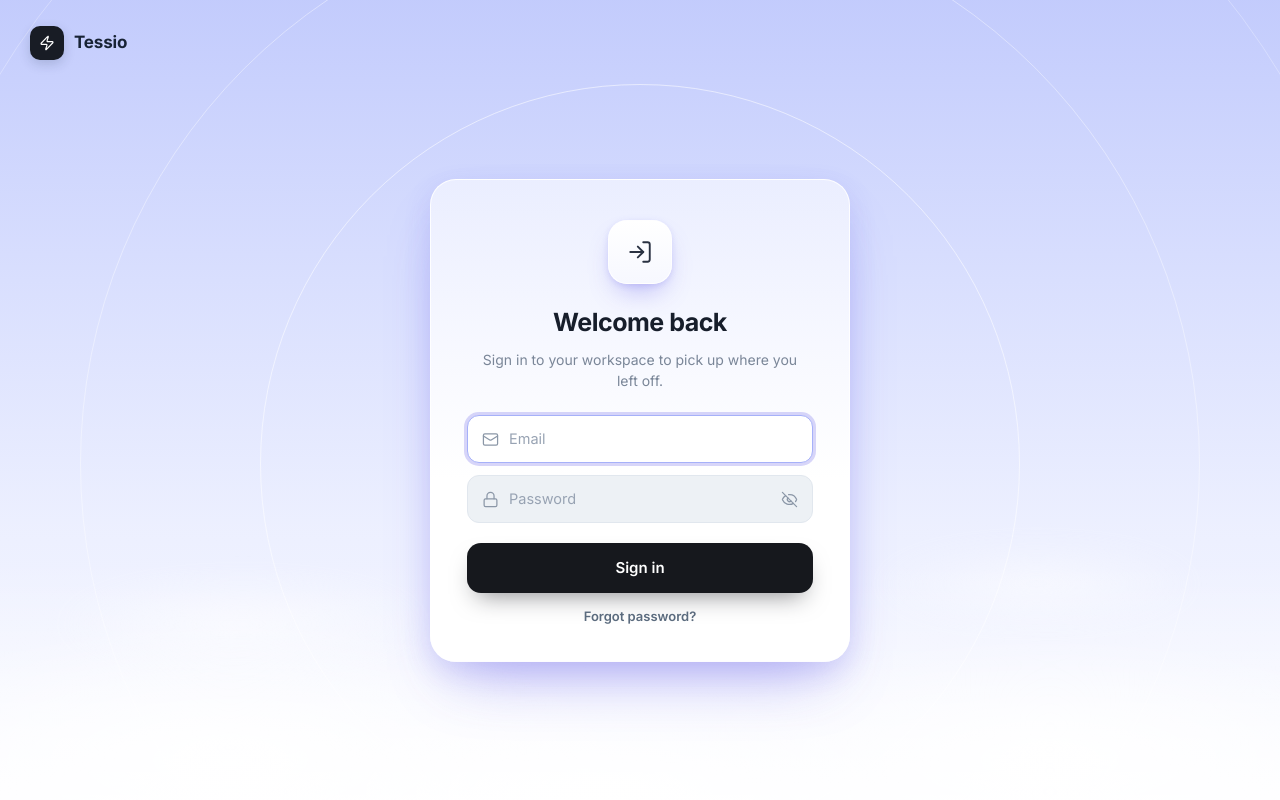
it: LoginPage › shows an error when login fails
Type "a@b.io" into the field labelled "Email".
click(654, 439); type("a@b.io")  # box [509,428,798,450]
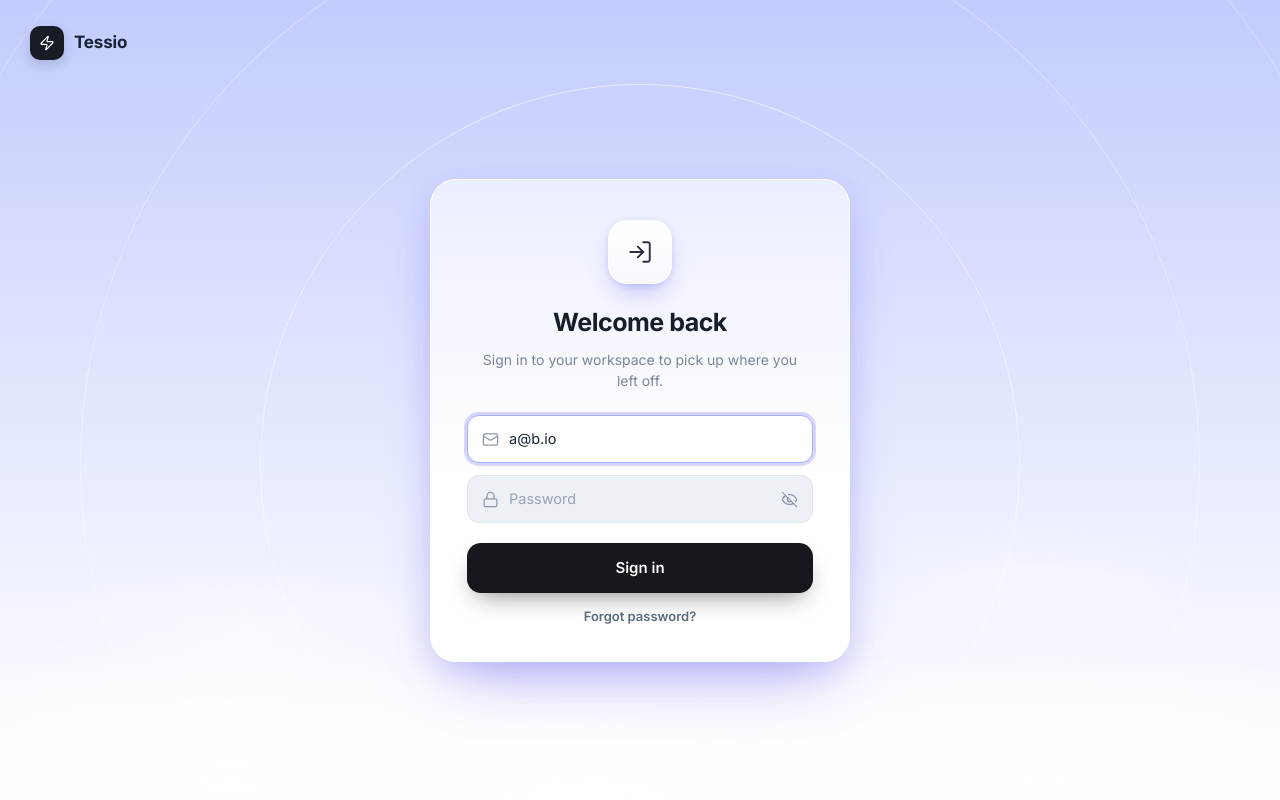
Type "bad" into the password field labelled "Password".
click(638, 499); type("bad")  # box [509,488,767,510]
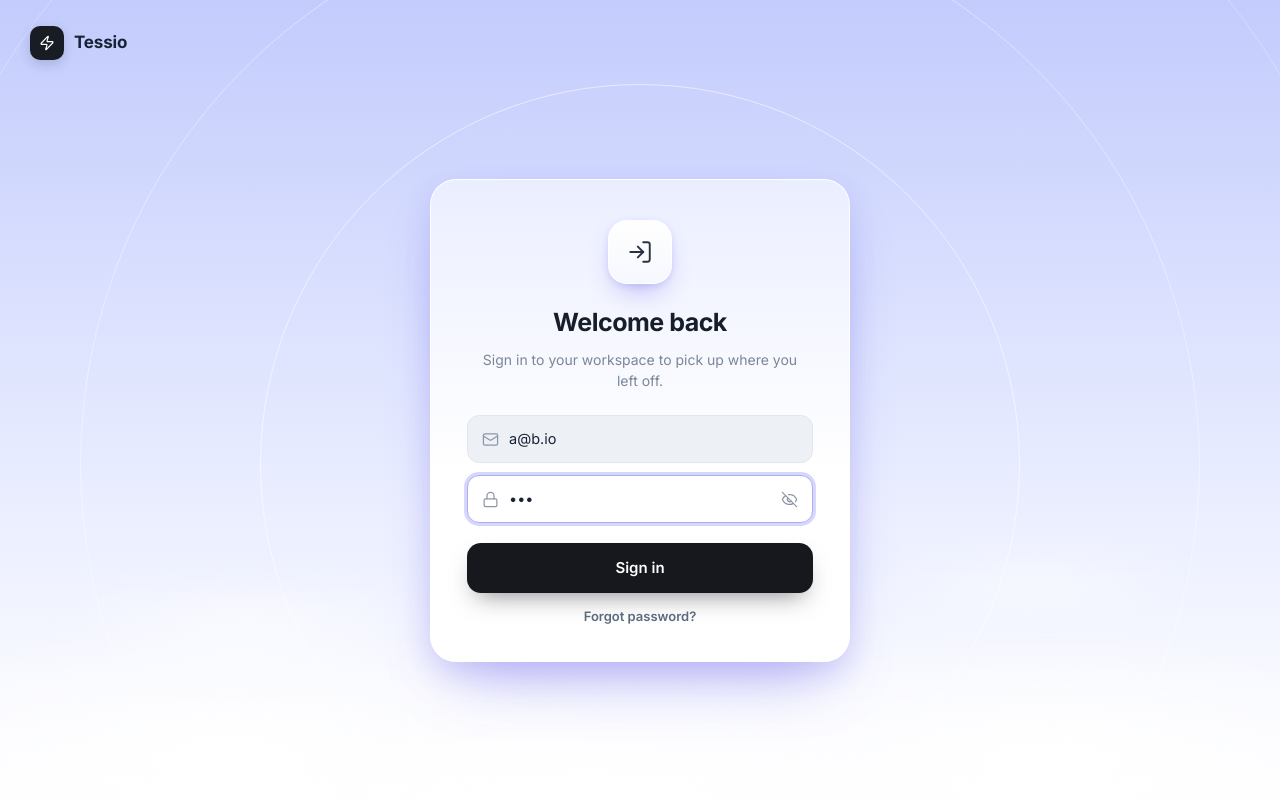
Click the button "Sign in".
click(640, 568)  # box [467,543,813,593]
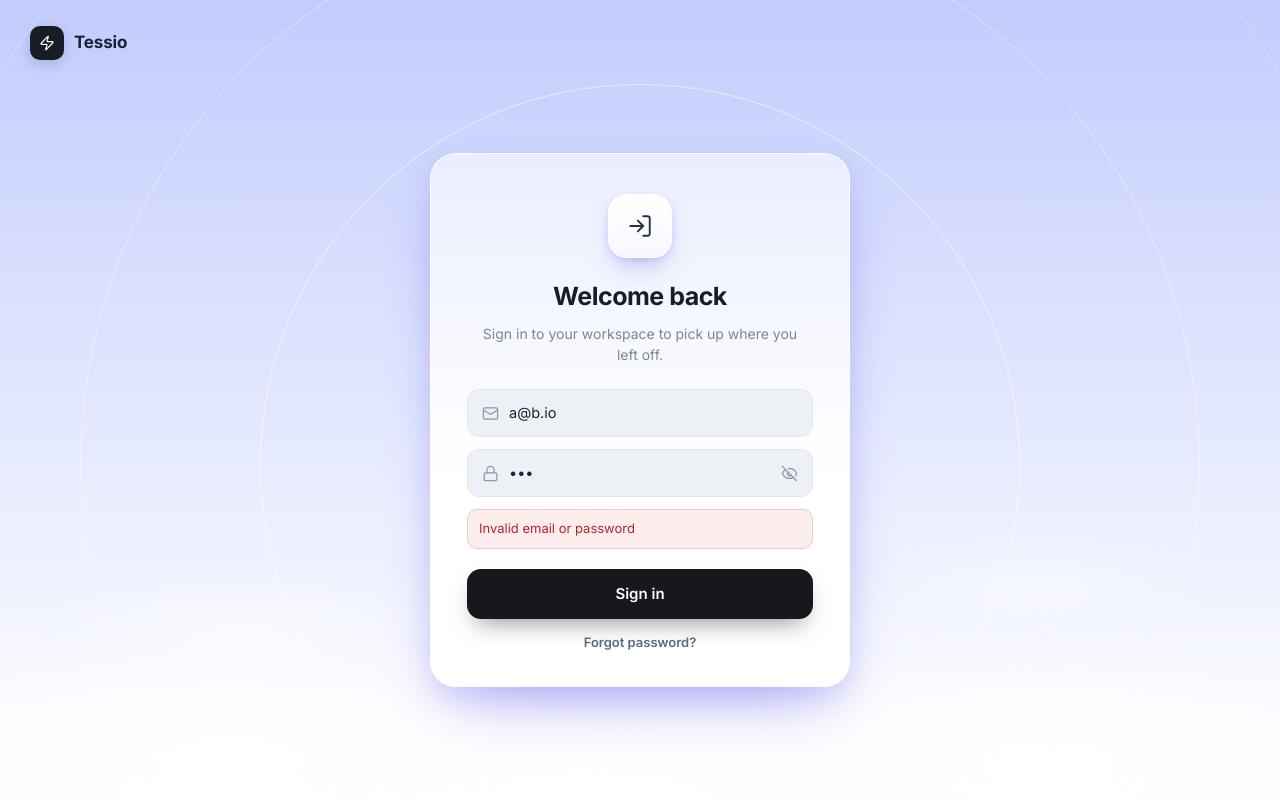
Expected: the text "Invalid email or password" is shown, [467,509,813,549]
